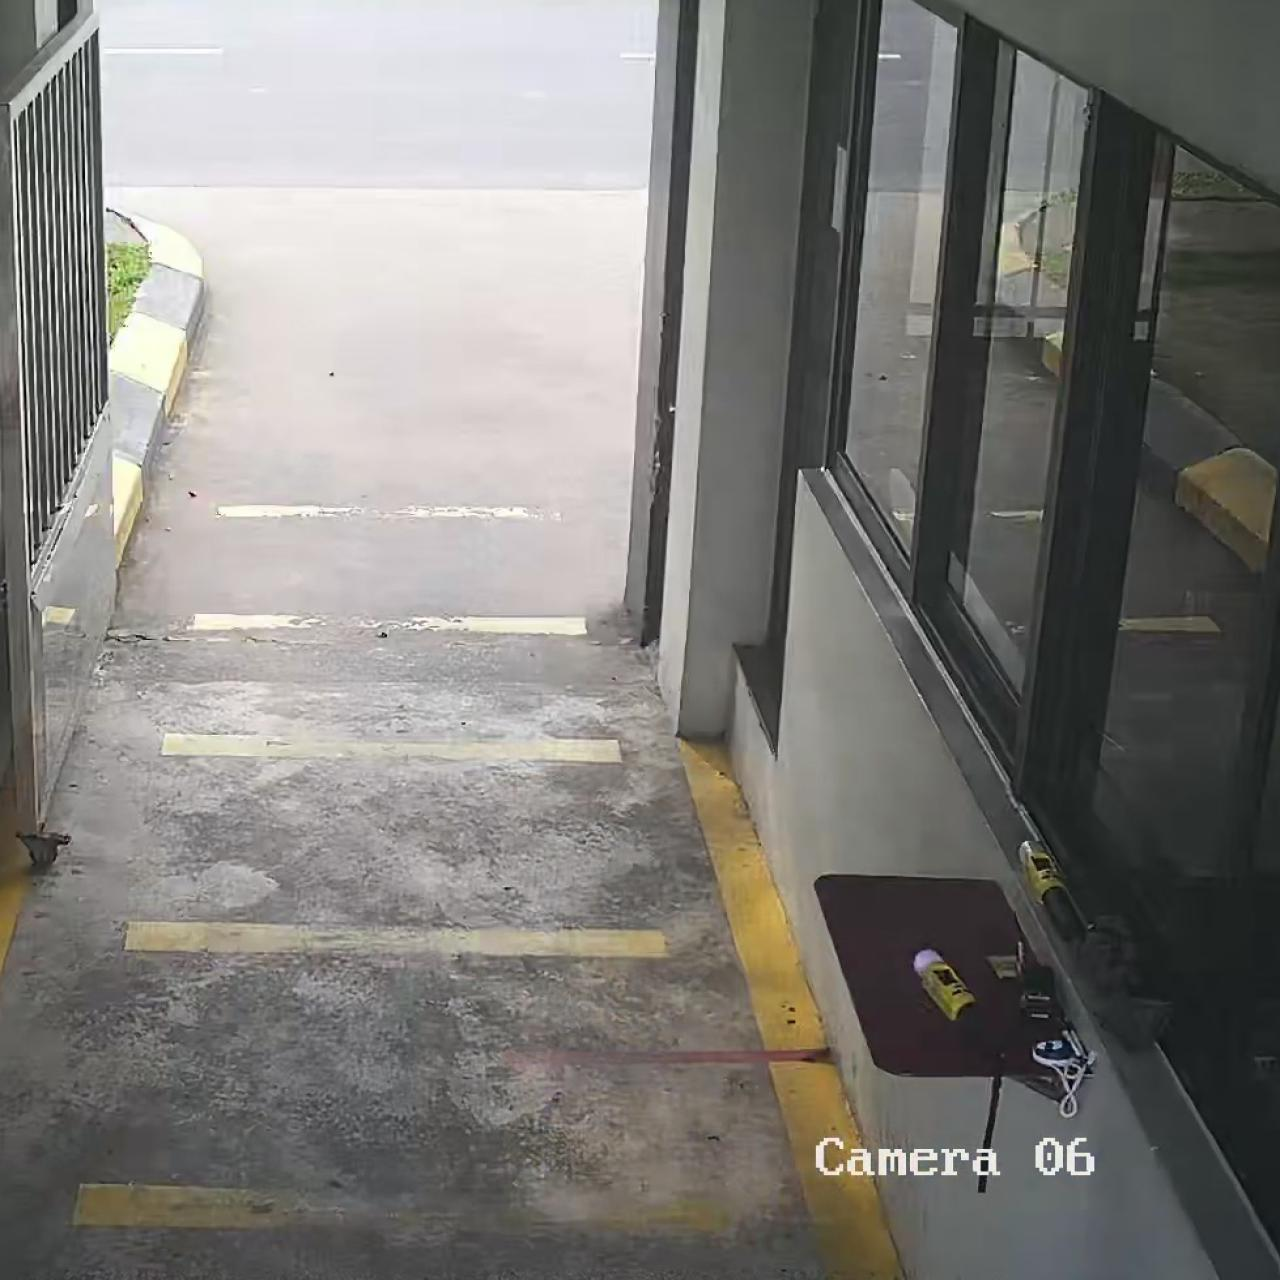breathalyzer: (911, 944, 1014, 1197), (1007, 828, 1105, 955)
